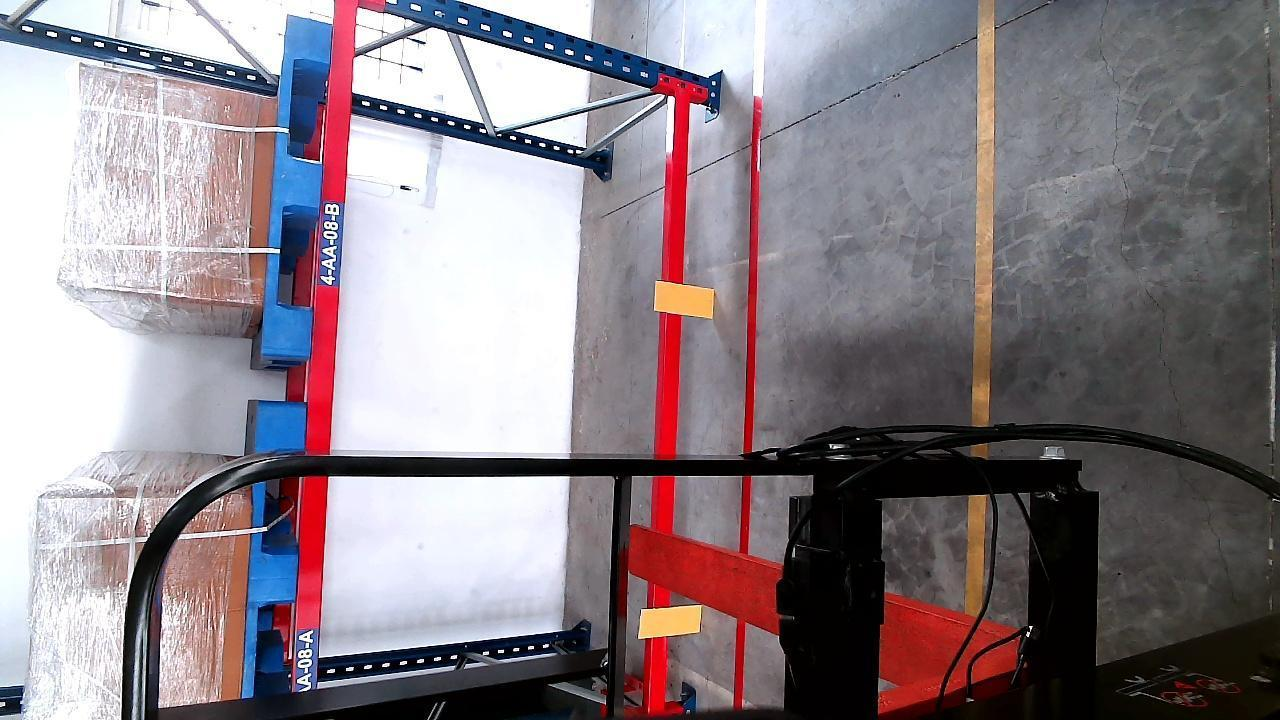h_rack: (300, 5, 361, 689), (647, 101, 694, 719)
orange_strip: (641, 603, 705, 639), (659, 282, 714, 315)
red_line: (736, 54, 765, 713)
small_pallet: (265, 17, 329, 361), (245, 416, 304, 695)
yellow_line: (964, 0, 998, 614)
